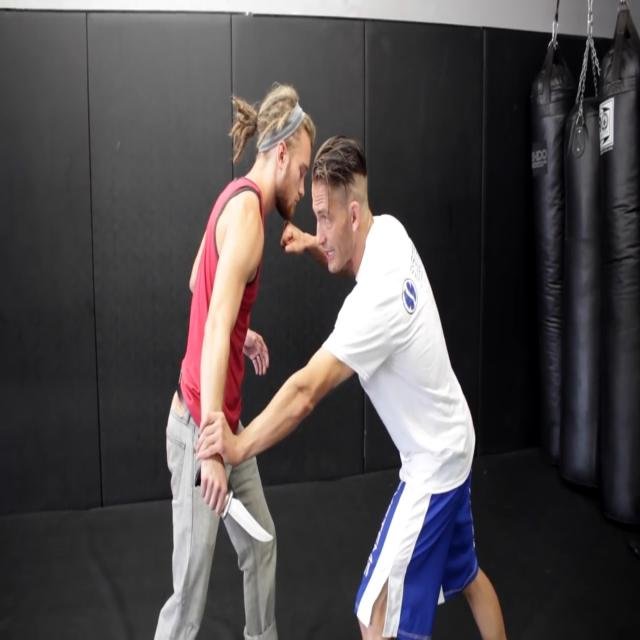knife: (226, 488, 278, 562)
